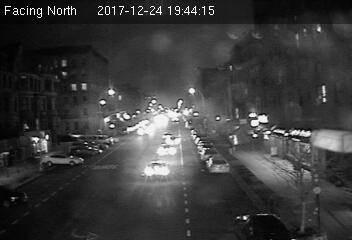car: (233, 210, 293, 240), (144, 157, 170, 178), (206, 154, 230, 172), (156, 143, 176, 156), (164, 135, 180, 144)
